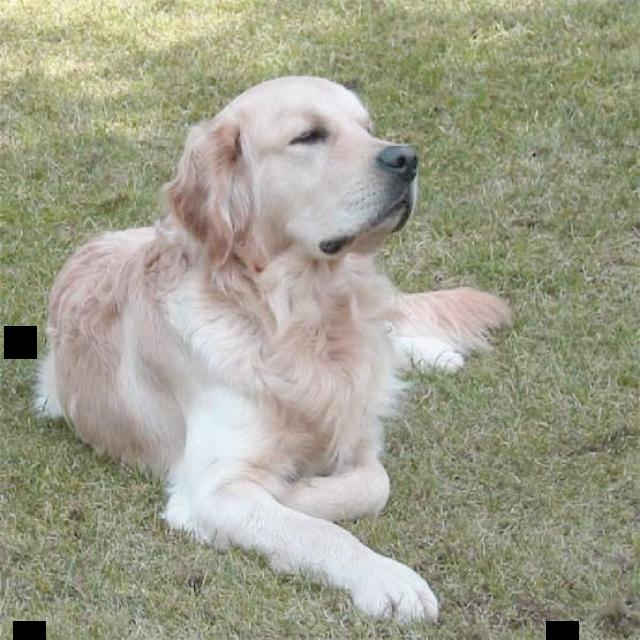adult_dog: (22, 72, 515, 627)
